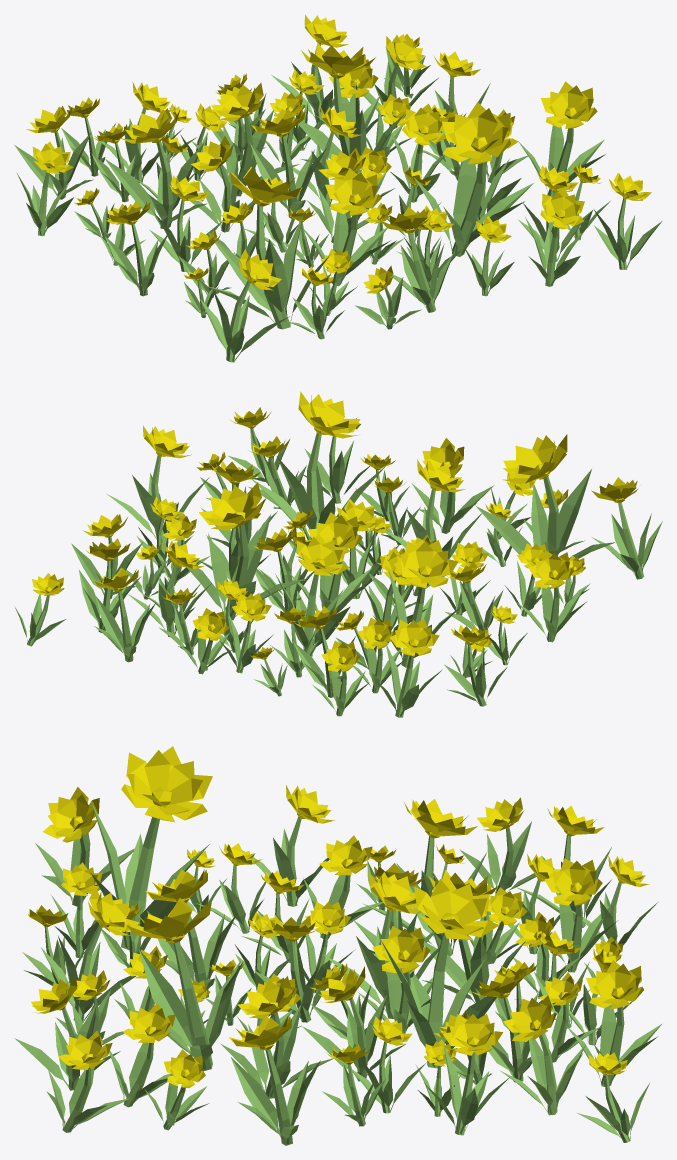
File: FlowerYellow.fbx
3 views of the same model, one above another, from view 1: azimuth 30°, elevation 25°; view 2: azimuth 150°, elevation 25°; view 3: azimuth 270°, elevation 25° (orthographic). The views are drawn at different scales.
Visible parts, largest first — view 1: Icosphere.021; view 2: Icosphere.021; view 3: Icosphere.021.
Part boxes in pixels (box(x1,y1,x2,y2)): Icosphere.021: box(14, 14, 662, 362); Icosphere.021: box(14, 391, 662, 717); Icosphere.021: box(14, 746, 662, 1145).
Bounding box in the file's own units: 120 × 36.13 × 113.
